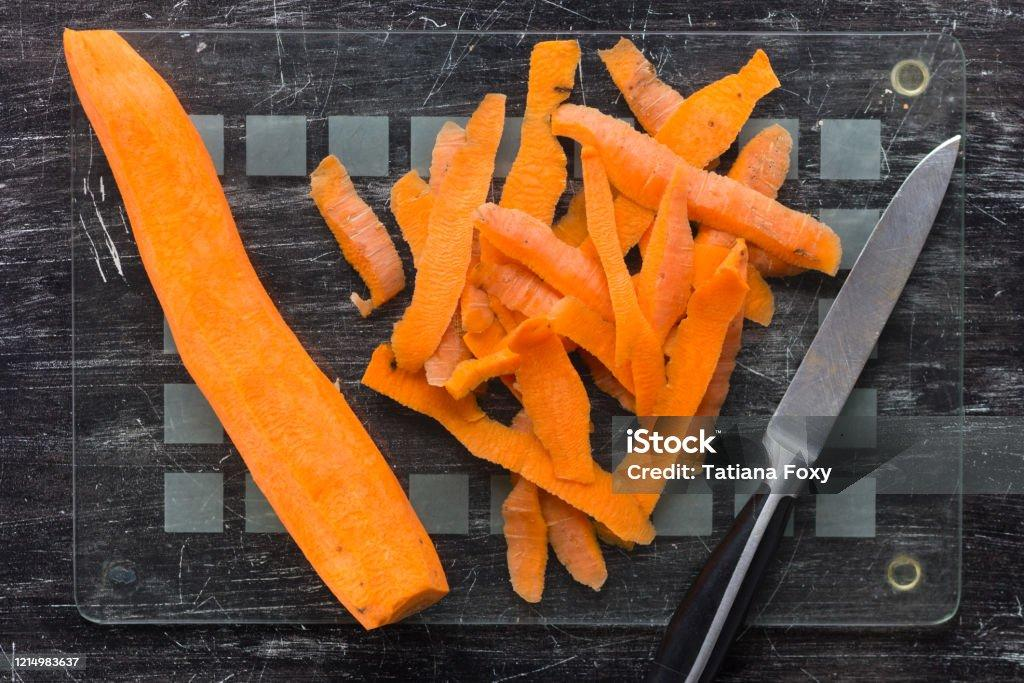organic: (64, 30, 447, 627), (763, 135, 960, 463), (553, 104, 840, 274), (391, 94, 504, 368), (475, 203, 633, 388), (363, 343, 556, 487), (665, 227, 748, 415), (311, 155, 404, 315), (655, 50, 779, 168), (500, 41, 579, 223), (515, 329, 600, 490), (599, 39, 682, 135), (539, 490, 606, 587), (502, 478, 547, 601)
